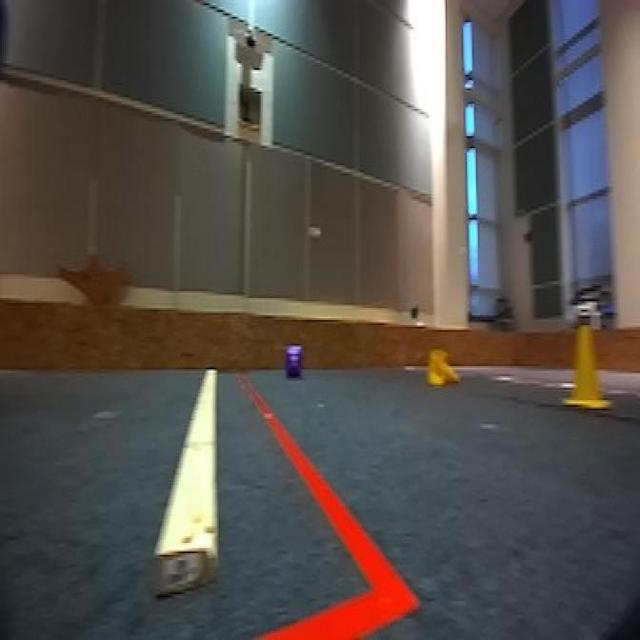frc_cone: (561, 322, 609, 412), (423, 346, 462, 388)
frc_cube: (284, 346, 304, 380)
